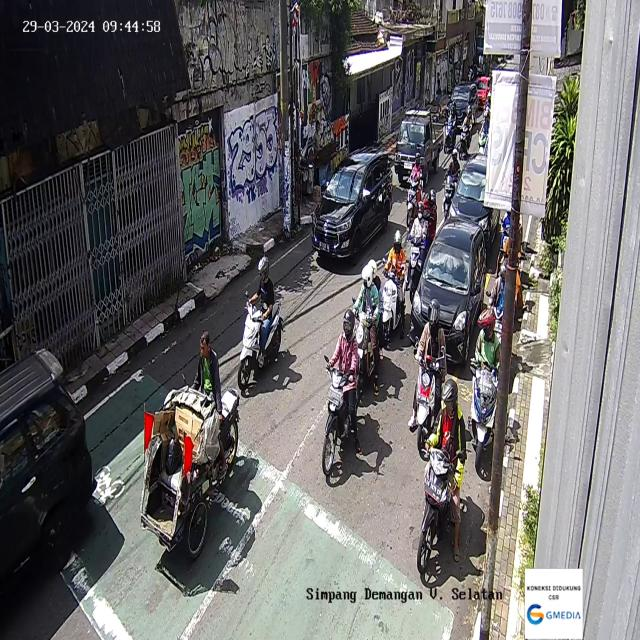car: (0, 348, 94, 584), (410, 216, 487, 365), (310, 144, 393, 265), (450, 152, 500, 249), (445, 79, 478, 128), (474, 76, 492, 110)
motorcycle: (416, 379, 467, 574), (321, 309, 362, 476), (237, 255, 284, 392), (408, 298, 446, 461), (470, 306, 499, 470), (352, 258, 384, 398), (382, 228, 406, 344), (406, 200, 428, 304), (485, 257, 508, 347), (406, 153, 423, 227), (442, 149, 460, 218), (496, 207, 512, 278), (421, 188, 437, 250), (458, 105, 474, 158), (477, 105, 491, 154), (444, 102, 457, 152)
truck: (395, 109, 444, 185)
